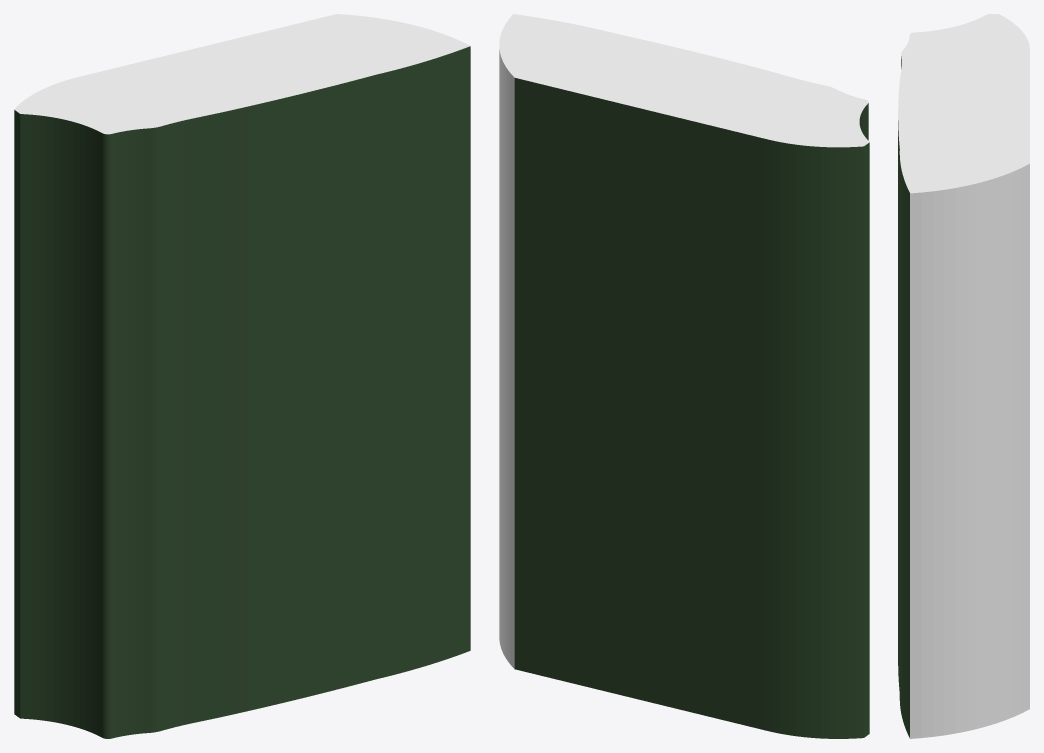
3 renders of one model, left to right at view 1: azimuth 30°, elevation 25°; view 2: azimuth 150°, elevation 25°; view 3: azimuth 270°, elevation 25°, orthographic. The views are drawn at different scales.
Visible parts, largest first — view 1: book; view 2: book; view 3: book.
Boxes of the visible parts, <box> form: book: <box>14,14,470,738</box>; book: <box>499,14,869,738</box>; book: <box>898,14,1029,738</box>.
Size of the model in its own units: 4.91 by 6.97 by 1.53.
